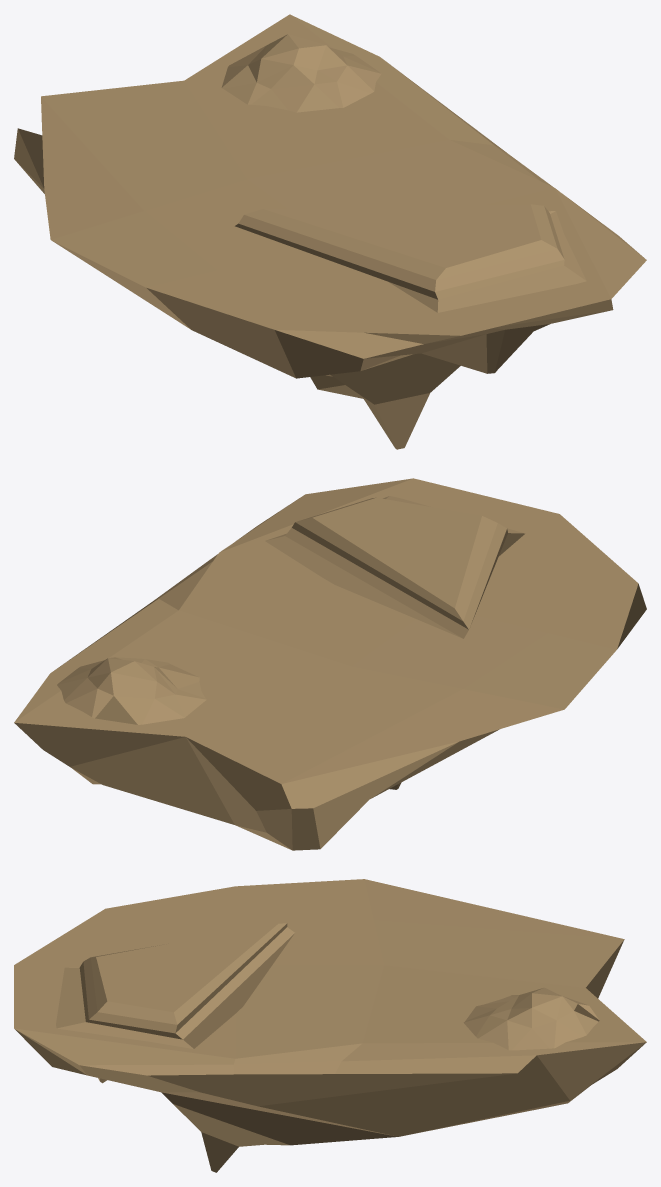
Rendered from medium_islands_2.fbx.
3 views of the same model, one above another, from view 1: azimuth 30°, elevation 25°; view 2: azimuth 150°, elevation 25°; view 3: azimuth 270°, elevation 25° (orthographic). The views are drawn at different scales.
Parts seen in each view (by area): view 1: medium_island_2; view 2: medium_island_2; view 3: medium_island_2.
Part boxes in pixels (x1,y1,x2,y2): medium_island_2: [14, 14, 646, 449]; medium_island_2: [14, 478, 646, 850]; medium_island_2: [14, 879, 646, 1172].
Bounding box in the file's own units: 1116 × 593 × 1600.
